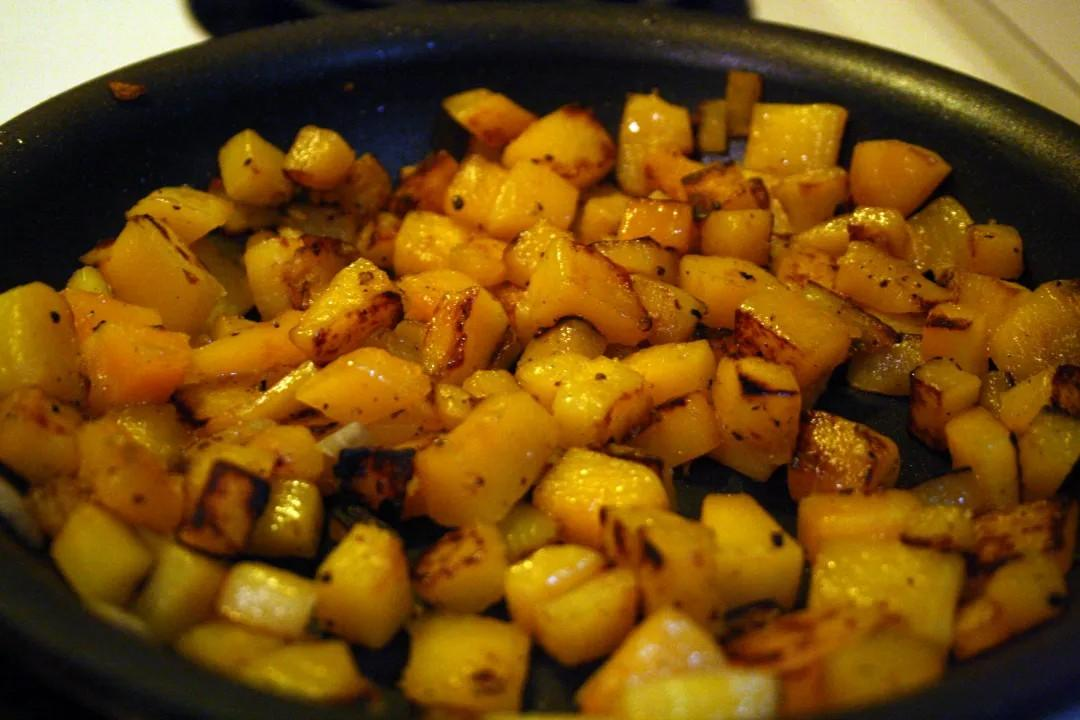AlooMasala: (0, 73, 1080, 720)
